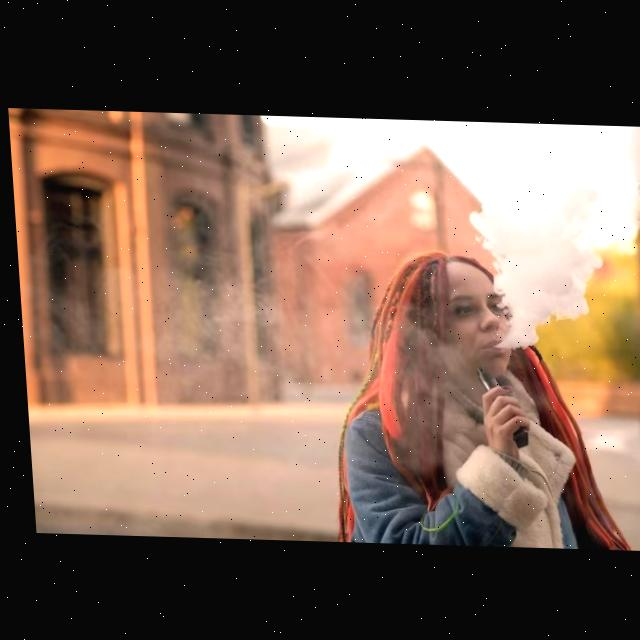vape: (473, 364, 523, 444)
